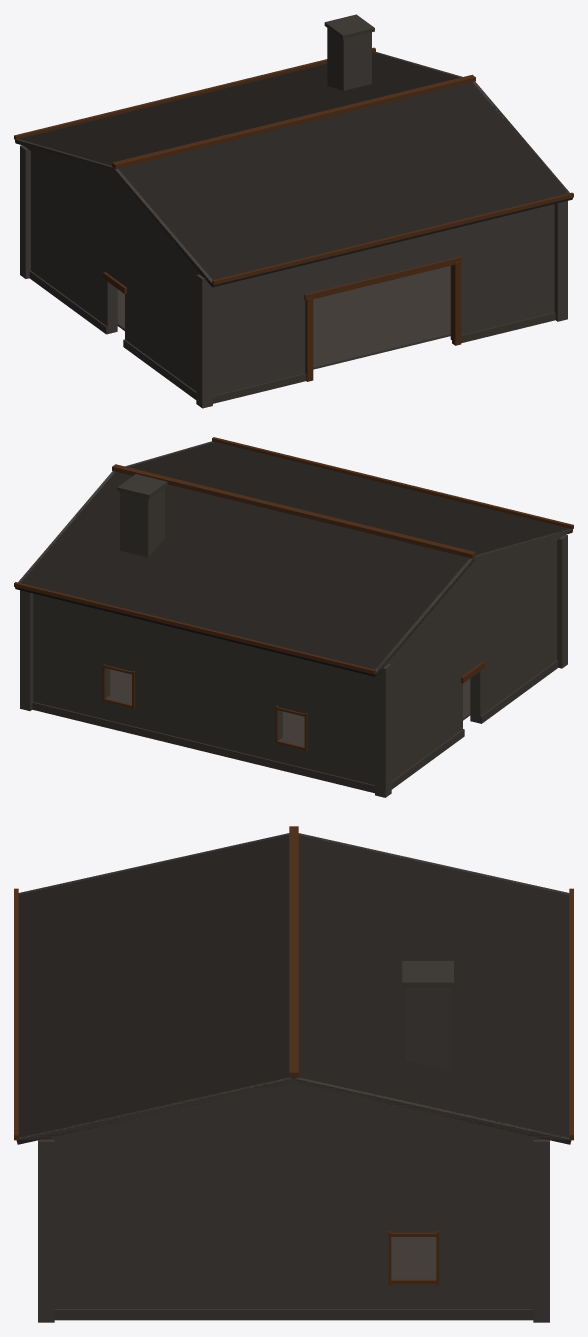
The model's file is forge.glb.
3 renders of one model, top to bottom at view 1: azimuth 30°, elevation 25°; view 2: azimuth 150°, elevation 25°; view 3: azimuth 270°, elevation 25°, orthographic. The views are drawn at different scales.
Parts seen in each view (by area): view 1: forge_soot, forge_roof_soot, forge_timber, forge_plinth; view 2: forge_soot, forge_roof_soot, forge_timber, forge_plinth; view 3: forge_roof_soot, forge_soot, forge_plinth, forge_timber.
Part boxes in pixels (x1,y1,x2,y2): forge_soot: [15, 28, 569, 408]; forge_roof_soot: [15, 52, 572, 287]; forge_timber: [14, 47, 573, 381]; forge_plinth: [29, 14, 555, 403]; forge_soot: [18, 441, 572, 797]; forge_roof_soot: [15, 441, 572, 676]; forge_timber: [14, 437, 573, 751]; forge_plinth: [32, 474, 558, 793]; forge_roof_soot: [16, 833, 571, 1144]; forge_soot: [18, 833, 569, 1322]; forge_plinth: [54, 961, 533, 1320]; forge_timber: [14, 826, 573, 1285].
Size of the model in its own units: 14.82 by 8.2 by 14.02.
